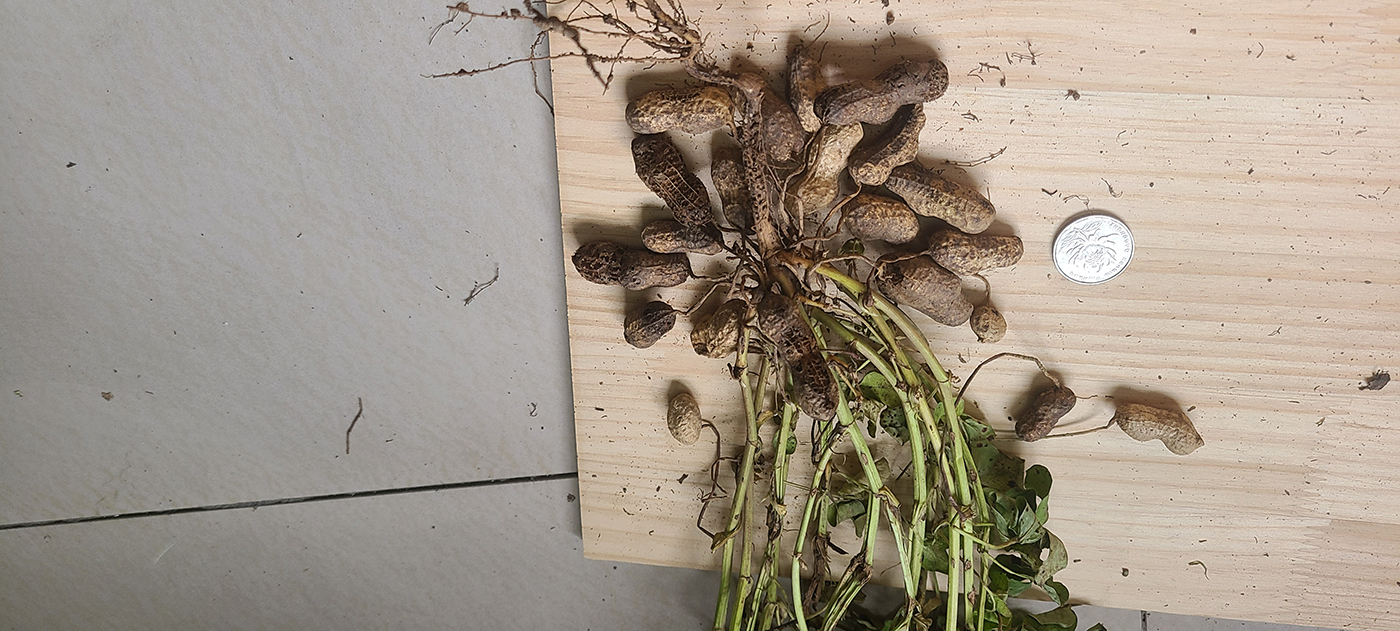h: (883, 165, 996, 235), (786, 120, 863, 218), (846, 104, 927, 184), (625, 85, 734, 135), (1115, 402, 1206, 454), (787, 45, 841, 132), (931, 230, 1024, 276), (841, 194, 919, 244), (690, 300, 752, 360), (667, 392, 702, 444), (969, 304, 1008, 343)
l: (757, 294, 839, 421), (814, 58, 948, 124), (631, 137, 712, 229), (874, 253, 973, 326), (738, 71, 805, 164), (571, 242, 690, 289), (709, 147, 755, 231), (1015, 385, 1076, 442), (642, 224, 725, 255), (623, 301, 676, 349)
